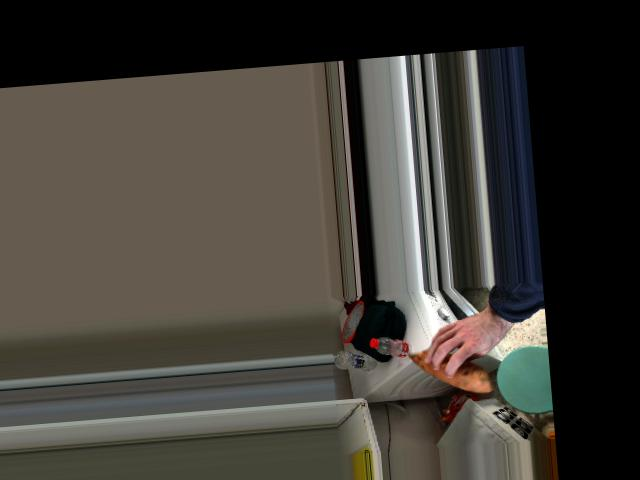sweet_potato: (412, 333, 479, 396)
